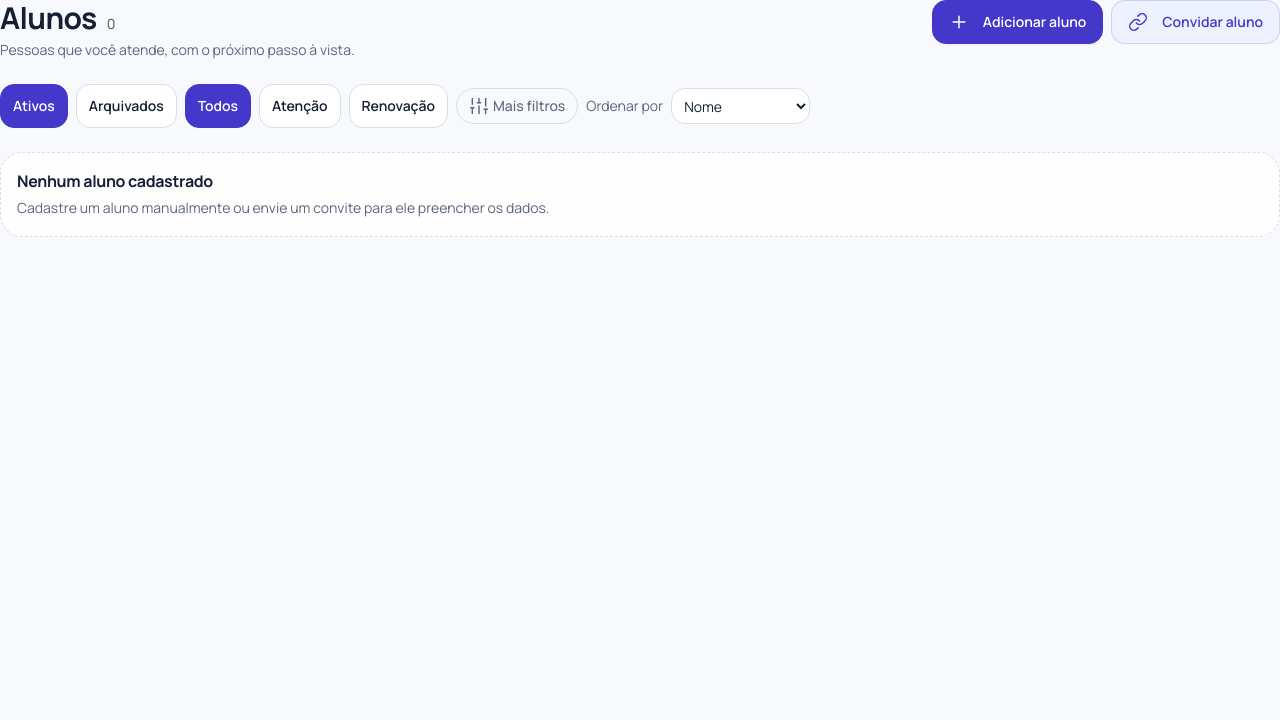
it: ClientsPage — nomenclature has no flash › shows only Todos/Atenção/Renovação as quick pills (same compact toolbar for desktop and mobile), with the rest behind 'Mais filtros'
The image size is (1280, 720).
expect the heading "Nenhum aluno cadastrado" is shown: met, box [17,170,213,192]
expect the button "Todos" is shown: met, box [185,84,251,128]
Click the button "Mais filtros": (517, 106) [456,88,578,124]
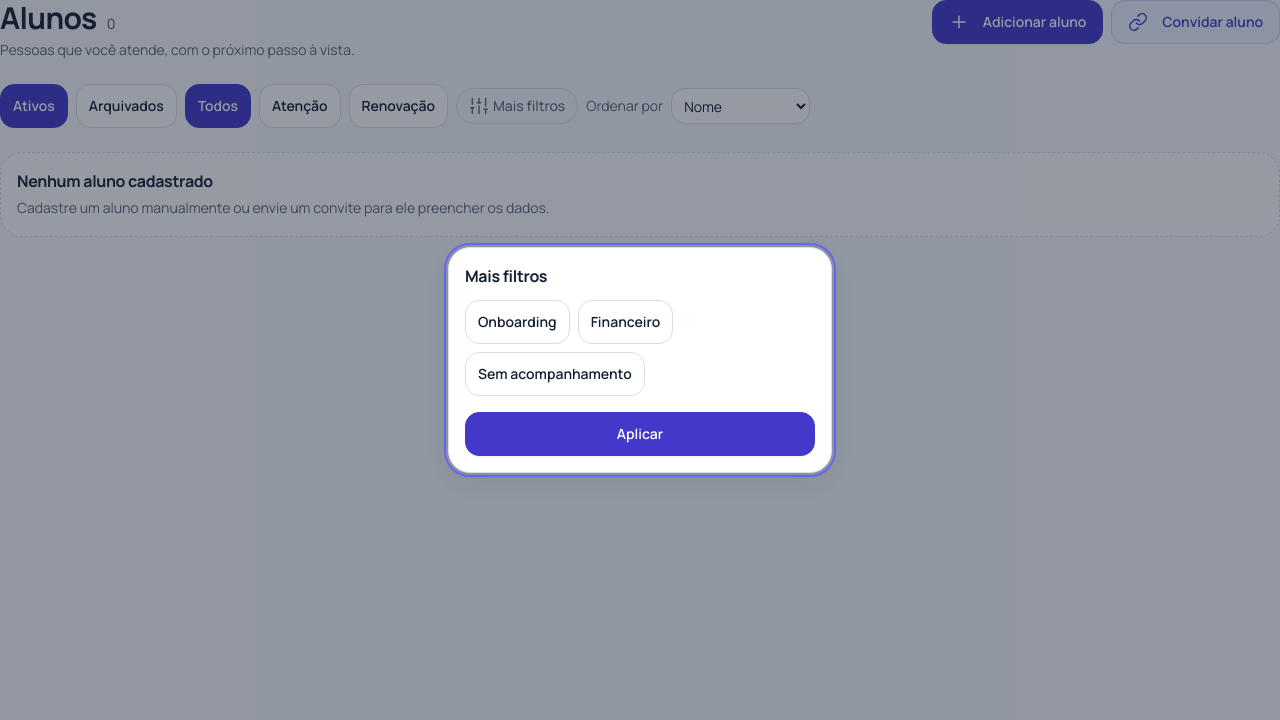
expect the button "Onboarding" is shown: met, box [465,300,570,344]
expect the button "Financeiro" is shown: met, box [578,300,673,344]
expect the button "Sem acompanhamento" is shown: met, box [465,352,645,396]
